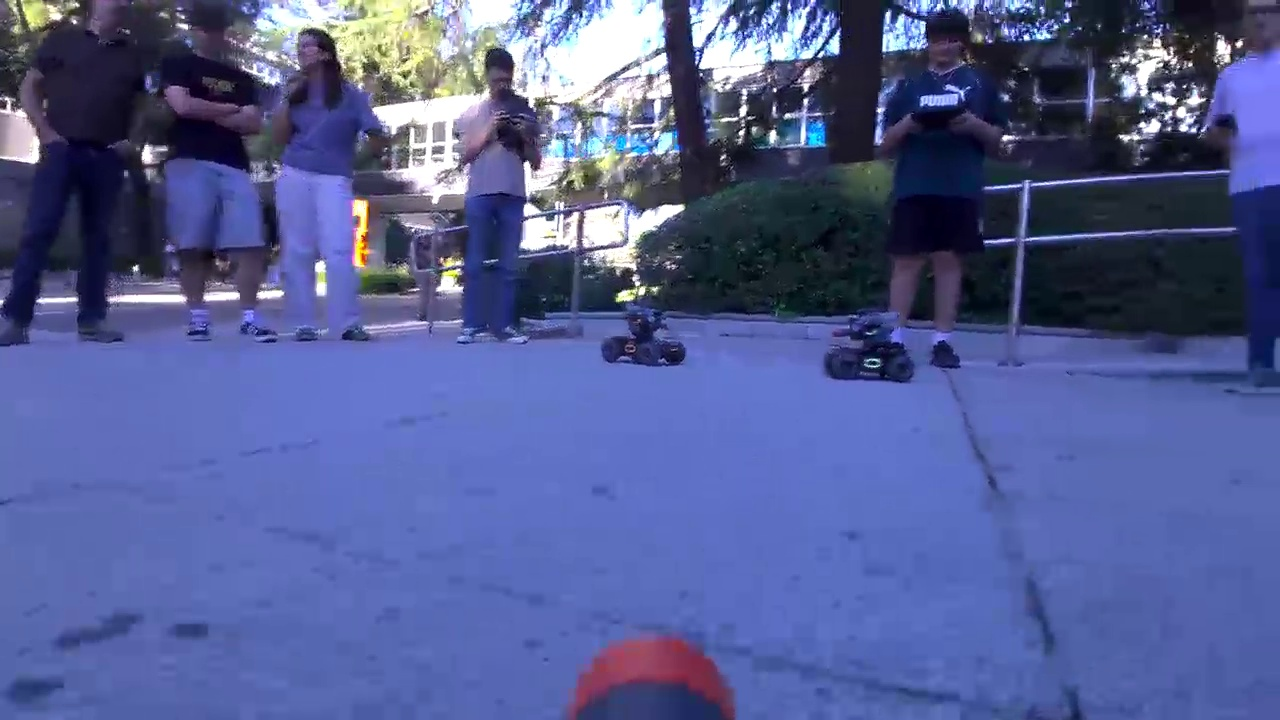robot: (825, 312, 914, 395), (596, 302, 689, 373)
